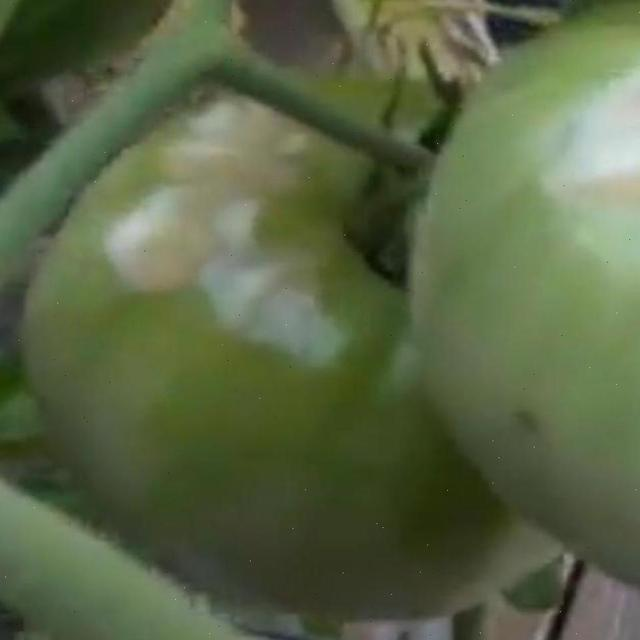Sunscald Fruit: (70, 116, 392, 200)
